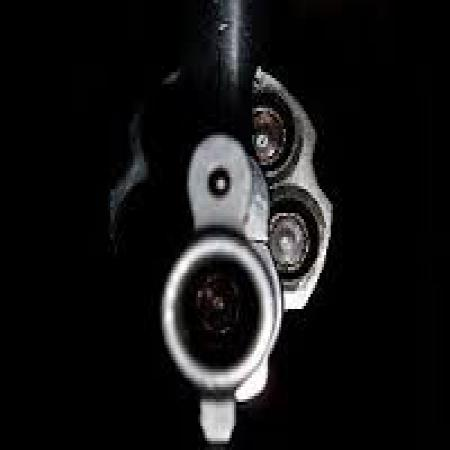Pistol: (103, 3, 328, 444)
